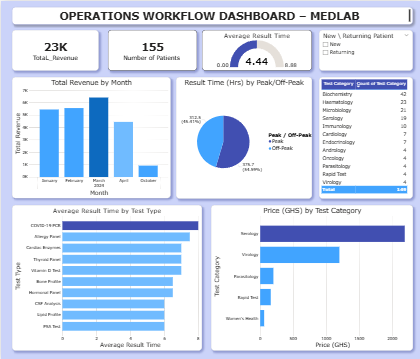

The page's visual inventory and layout, read from the dashboard file:
{"tool":"powerbi","page":{"name":"Page 1","canvas":[2100,1800],"ordinal":0},"visuals":[{"type":"clusteredBarChart","title":" Price (GHS) by Test Category","fields":{"Category":["Sheet2.Test Category"],"Y":["Sum(Sheet2.Price (GHS))"]},"box":[1049.8,1018,1010,727.7],"z":0},{"type":"donutChart","title":" Result Time (Hrs) by Peak/Off-Peak","fields":{"Category":["Sheet2.Peak/Off-Peak"],"Y":["Sum(Sheet2.Result Time (Hrs))"]},"box":[875,377.5,697.5,607.5],"z":1000},{"type":"clusteredBarChart","title":"Average Result Time by Test Type","fields":{"Category":["Sheet2.Test Type"],"Y":["Sheet2.Average_Result_Time"]},"box":[55.7,1018,950.4,727.7],"z":2000},{"type":"clusteredColumnChart","title":"Total Revenue by Month and Year","fields":{"Category":["Sheet2.Date.Variation.Date Hierarchy.Year","Sheet2.Date.Variation.Date Hierarchy.Month"],"Y":["Refferal Source.TotaL_Revenue"]},"box":[55.1,378.4,793.5,606.1],"z":3000},{"type":"slicer","title":"New or Returning Patient","fields":{"Values":["Sheet2.New/Returning Patient"]},"box":[1590.6,147.1,469.2,202.8],"z":4000},{"type":"gauge","title":"Average Result Time","fields":{"Y":["Sheet2.Average_Result_Time"]},"box":[1006.1,147.1,548.8,202.8],"z":5000},{"type":"card","fields":{"Values":["Refferal Source.TotaL_Revenue"]},"box":[55.7,147.1,433.4,202.8],"z":6000},{"type":"card","fields":{"Values":["Count(Sheet2.Patient ID)"]},"box":[532.9,147.1,445.4,202.8],"z":7000},{"type":"tableEx","fields":{"Values":["Sheet2.Test Category","CountNonNull(Sheet2.Test Category)"]},"box":[1590.6,377.8,469.2,608.4],"z":8000},{"type":"textbox","box":[55.7,27.8,2004.2,87.5],"z":9000}]}

Visuals, with their boxes in screenshot pixels (x1, y1, x2, y2), scaled from the page's 2100x1800 canvas onto the 420x359 screenshot:
" Price (GHS) by Test Category" clusteredBarChart: [left=210, top=203, right=412, bottom=348]
" Result Time (Hrs) by Peak/Off-Peak" donutChart: [left=175, top=75, right=314, bottom=196]
"Average Result Time by Test Type" clusteredBarChart: [left=11, top=203, right=201, bottom=348]
"Total Revenue by Month and Year" clusteredColumnChart: [left=11, top=75, right=170, bottom=196]
"New or Returning Patient" slicer: [left=318, top=29, right=412, bottom=70]
"Average Result Time" gauge: [left=201, top=29, right=311, bottom=70]
card - Refferal Source.TotaL_Revenue: [left=11, top=29, right=98, bottom=70]
card - Count(Sheet2.Patient ID): [left=107, top=29, right=196, bottom=70]
tableEx - Sheet2.Test Category x CountNonNull(Sheet2.Test Category): [left=318, top=75, right=412, bottom=197]
textbox: [left=11, top=6, right=412, bottom=23]
